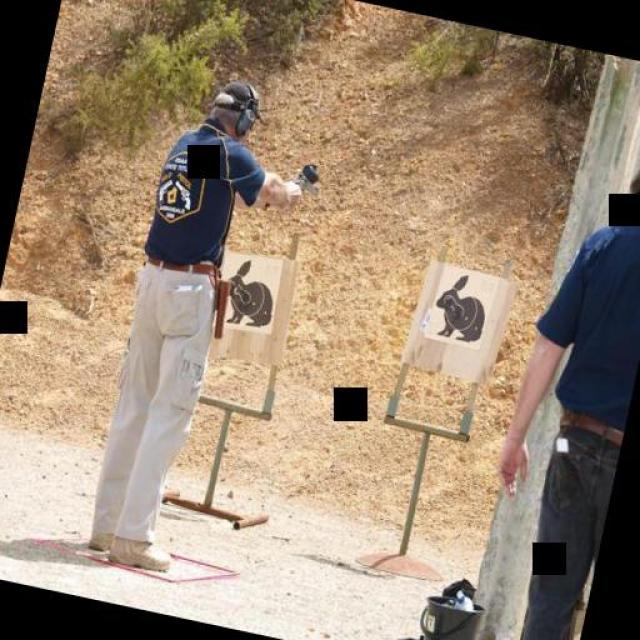gun: (285, 150, 329, 202)
